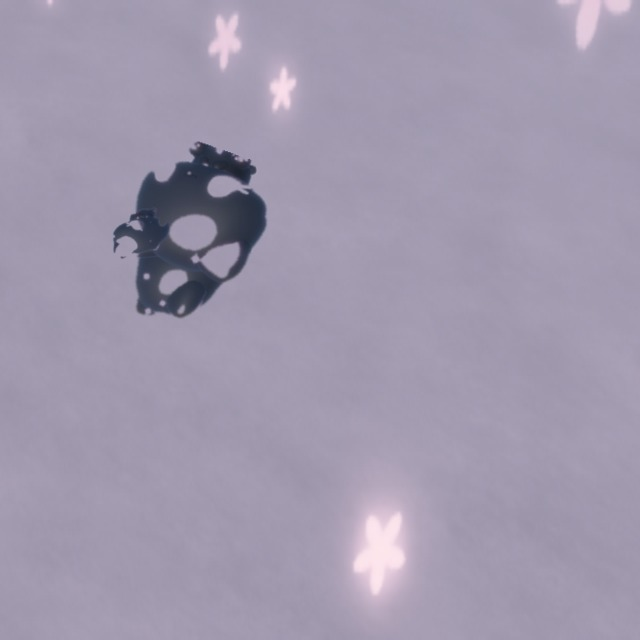urso_preto: (84, 124, 291, 357), (93, 193, 188, 274)
